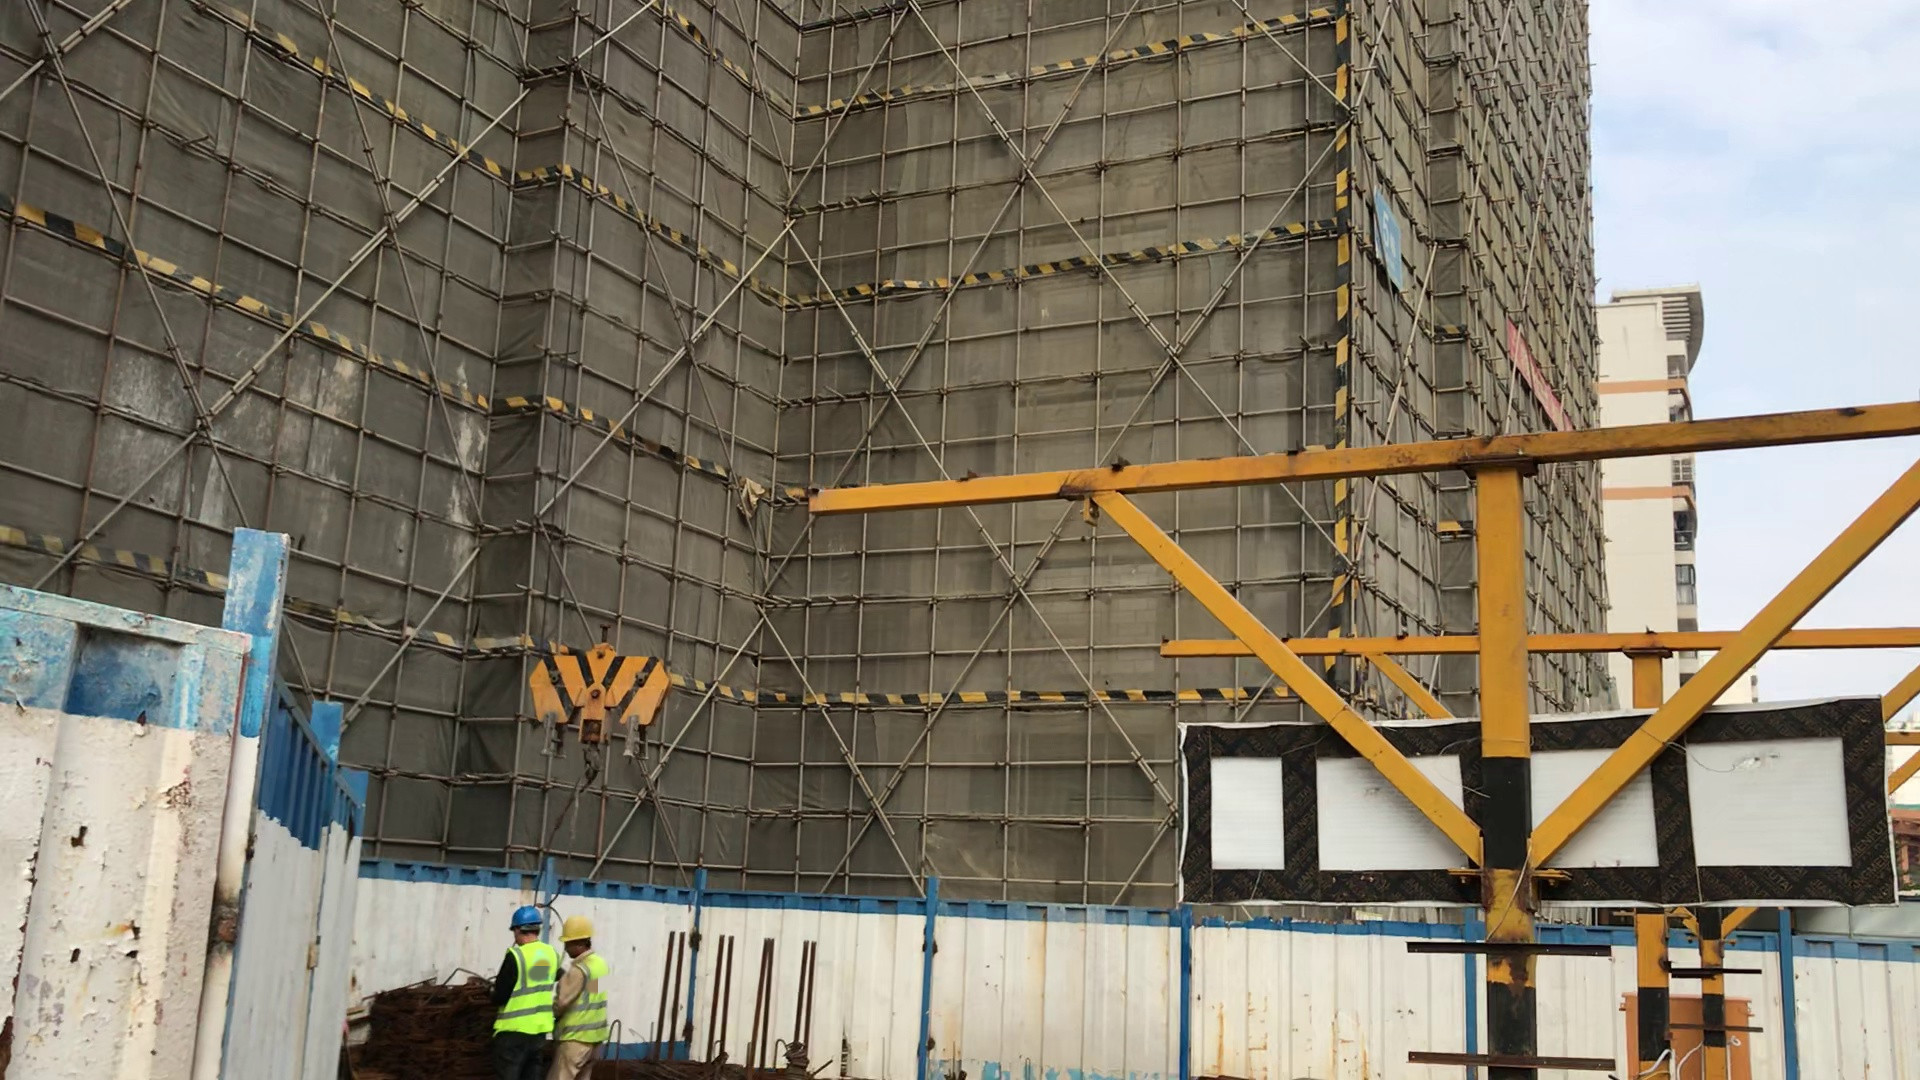ebox: (1618, 970, 1775, 1080)
helmet: (555, 910, 599, 949), (504, 901, 548, 938)
hook: (502, 620, 713, 808)
person: (546, 911, 632, 1080), (497, 896, 552, 1080)
slogan: (1485, 315, 1588, 447), (1363, 180, 1408, 284)
vest: (491, 941, 557, 1042), (558, 950, 616, 1051)
